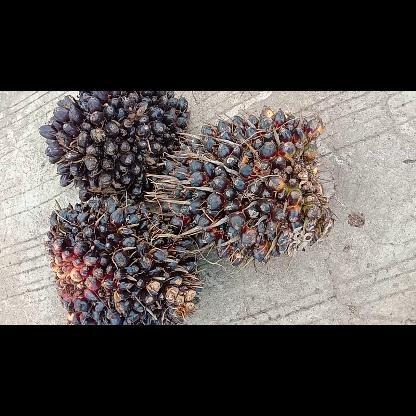TBS mentah: (155, 105, 337, 269), (44, 192, 204, 324), (36, 91, 192, 203)
